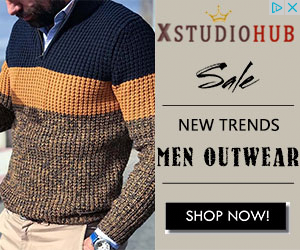fake_button: (157, 197, 293, 239), (265, 0, 300, 16)
